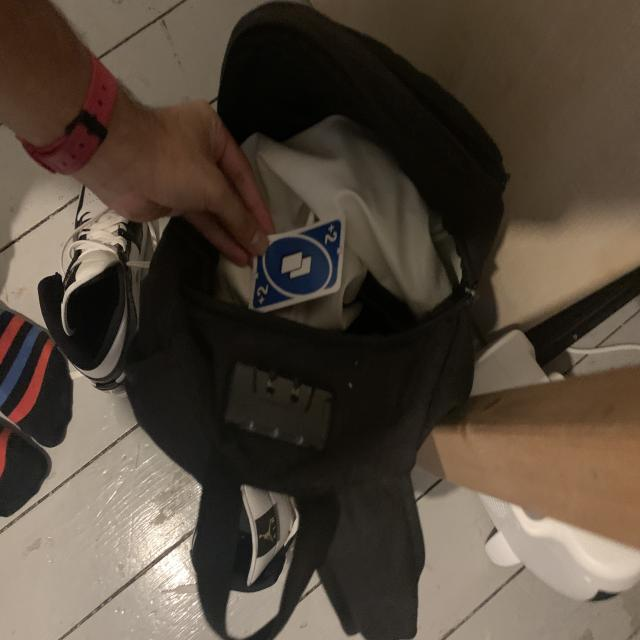lblue-20: (321, 223, 340, 247)
